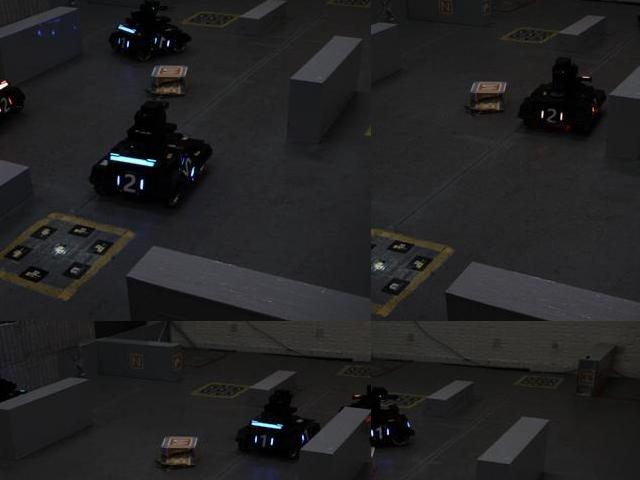armor: (113, 169, 150, 198), (179, 151, 201, 182), (250, 429, 278, 452), (536, 105, 565, 127), (152, 32, 176, 54), (371, 421, 393, 444), (0, 91, 17, 120), (114, 33, 132, 53), (295, 427, 314, 445)
